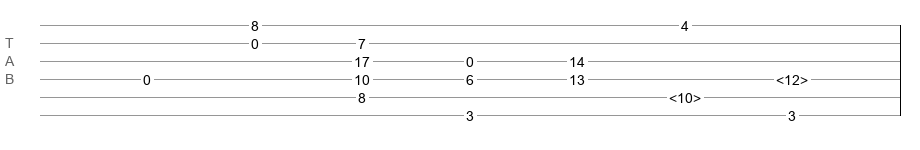0: (143, 72, 151, 82), (251, 36, 259, 46), (466, 54, 474, 64)
10: (354, 72, 370, 82)
13: (569, 72, 585, 82)
14: (569, 54, 585, 64)
17: (354, 54, 370, 64)
3: (466, 108, 474, 118), (788, 108, 796, 118)
4: (681, 18, 689, 28)
6: (466, 72, 474, 82)
7: (358, 36, 366, 46)
8: (251, 18, 259, 28), (358, 90, 366, 100)
harmonic: (669, 90, 701, 100), (776, 72, 808, 82)
